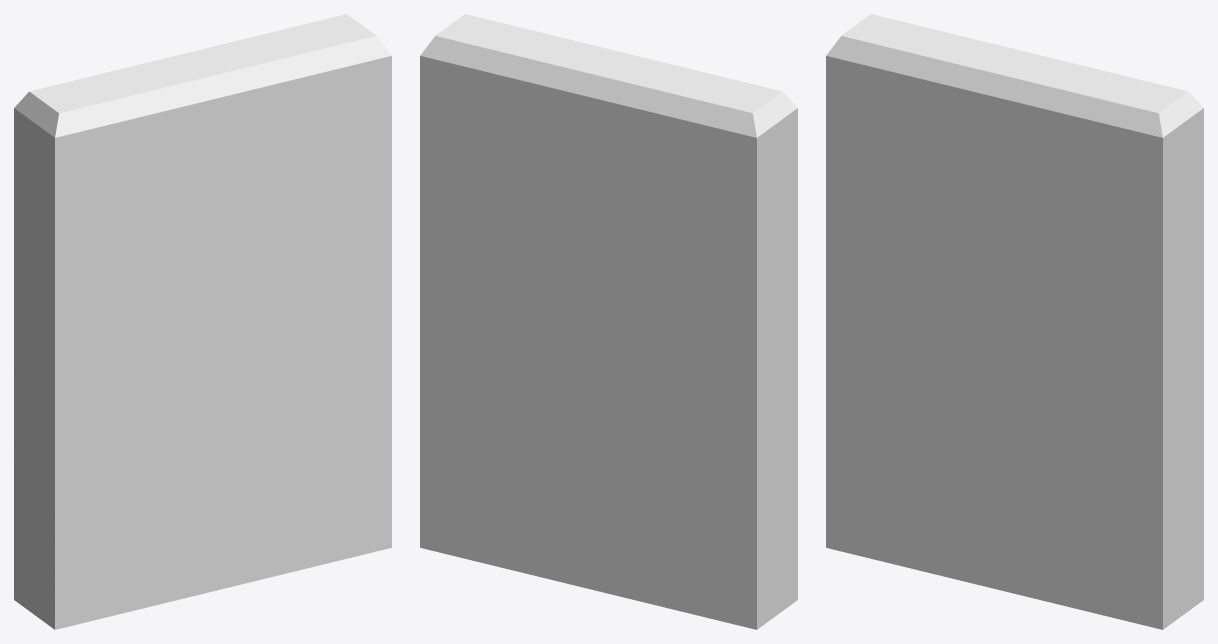
Rendered from Itr_Oven_Back_01.FBX.
3 renders of one model, left to right at view 1: azimuth 30°, elevation 25°; view 2: azimuth 150°, elevation 25°; view 3: azimuth 330°, elevation 25°, orthographic.
Parts seen in each view (by area): view 1: Itr_Oven_Back_01; view 2: Itr_Oven_Back_01; view 3: Itr_Oven_Back_01.
Boxes of the visible parts, bbox=[...] form: Itr_Oven_Back_01: bbox=[14, 14, 391, 629]; Itr_Oven_Back_01: bbox=[420, 14, 797, 629]; Itr_Oven_Back_01: bbox=[826, 14, 1203, 629].
Bounding box in the file's own units: 45.15 × 65.37 × 9.5.
